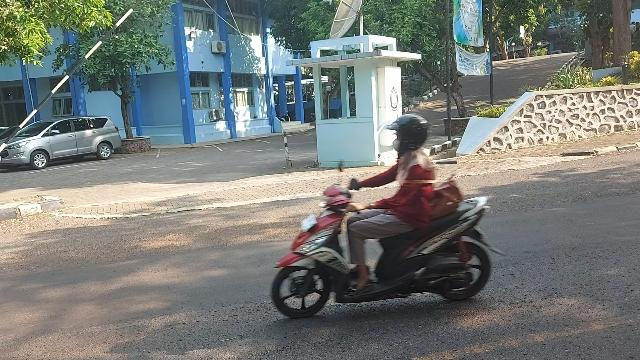helm: (387, 115, 429, 153)
motor: (273, 162, 508, 318)
